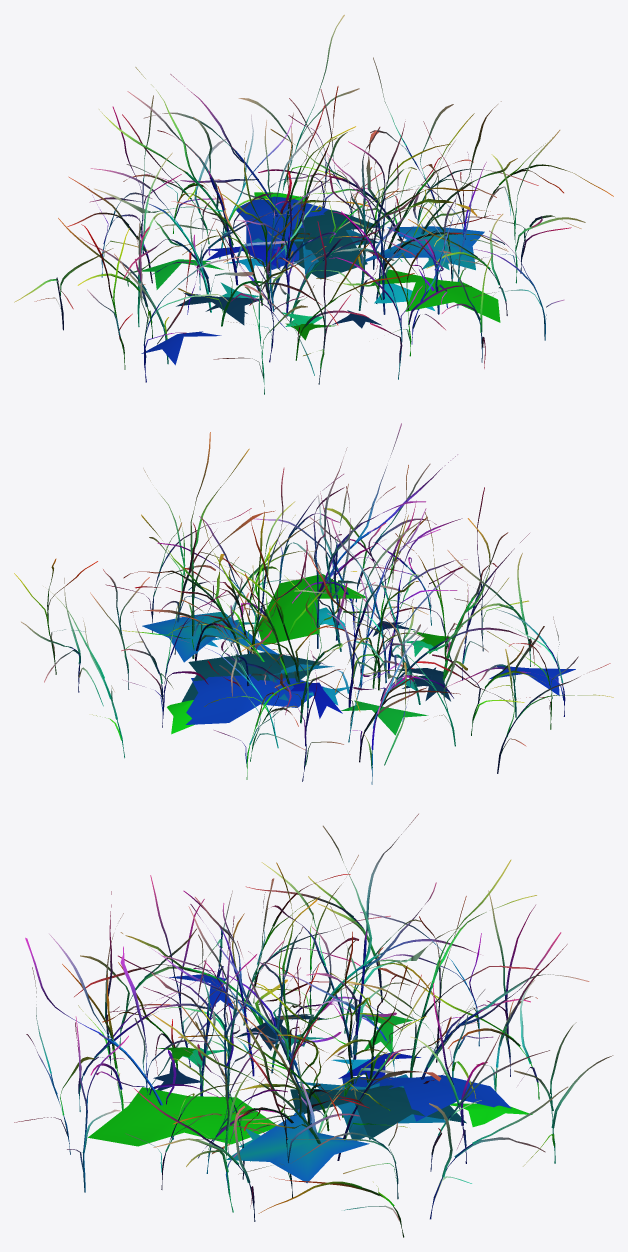
File: Kikuyu_Grass_wiljearqx_High_wiljearqx_VarE_LOD0.fbx
3 views of the same model, one above another, from view 1: azimuth 30°, elevation 25°; view 2: azimuth 150°, elevation 25°; view 3: azimuth 270°, elevation 25° (orthographic). The views are drawn at different scales.
Parts seen in each view (by area): view 1: _8pn4_VarE_LOD0; view 2: _8pn4_VarE_LOD0; view 3: _8pn4_VarE_LOD0.
Part boxes in pixels (x1,y1,x2,y2): _8pn4_VarE_LOD0: (14, 14, 613, 394); _8pn4_VarE_LOD0: (14, 423, 613, 784); _8pn4_VarE_LOD0: (14, 813, 613, 1237).
Size of the model in its own units: 89 by 31.45 by 71.25.
